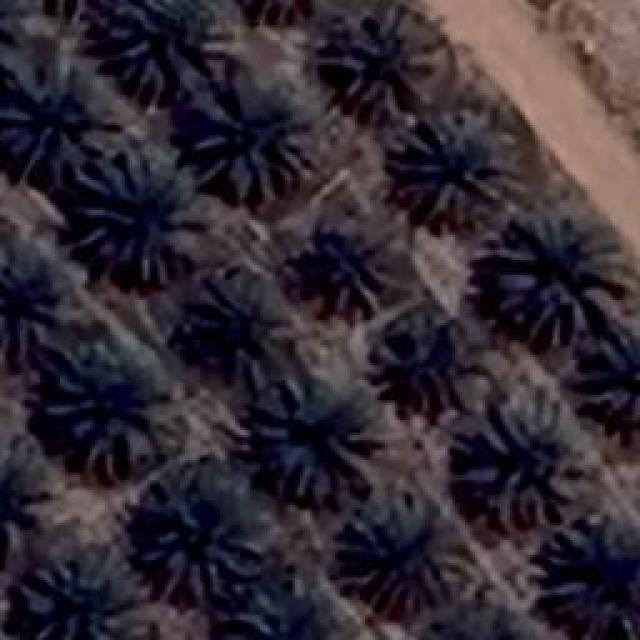PalmTree: (28, 97, 614, 505), (490, 212, 635, 346), (48, 338, 182, 478), (452, 398, 586, 530), (185, 68, 310, 202), (258, 375, 388, 503), (2, 62, 130, 190), (342, 490, 470, 610), (398, 108, 520, 225), (332, 8, 450, 120), (185, 278, 295, 392), (108, 0, 228, 98), (150, 480, 248, 598), (84, 162, 188, 270), (20, 550, 138, 638), (547, 514, 635, 628), (0, 248, 70, 372), (305, 225, 403, 310), (374, 312, 458, 410), (232, 580, 336, 640), (418, 603, 546, 640), (418, 617, 548, 640), (228, 0, 338, 23), (0, 0, 26, 72), (18, 0, 128, 17), (0, 0, 18, 77), (18, 0, 131, 12)
